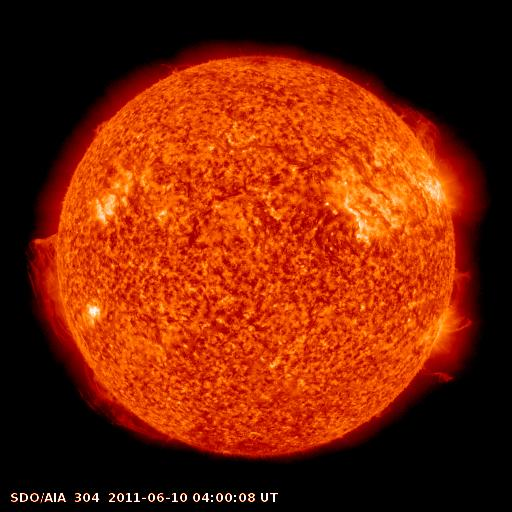prominence: (19, 229, 198, 447), (403, 262, 488, 386), (388, 92, 453, 161)
